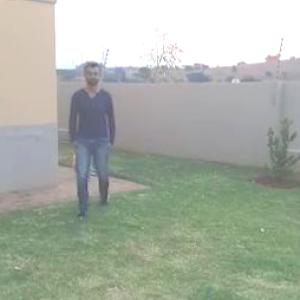follow: (64, 58, 113, 218)
